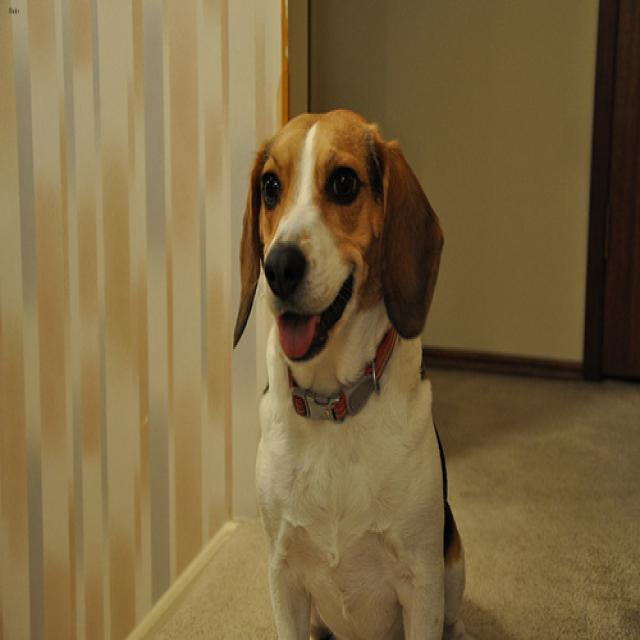dog-beagle: (221, 102, 471, 636)
